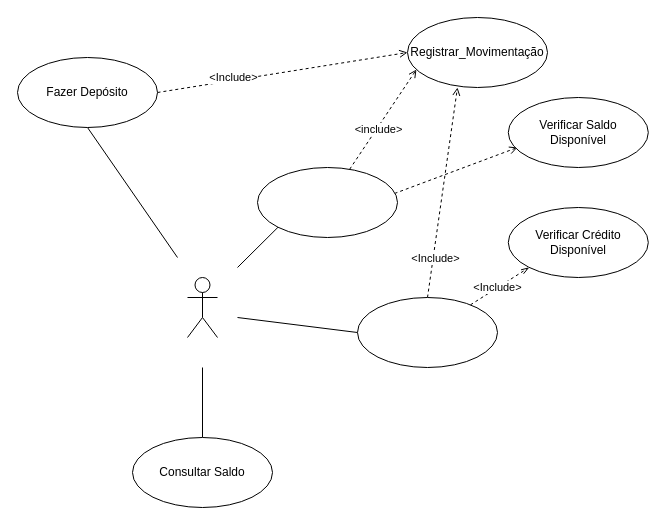
This 666x525 diagram has some shape labels left out. Each missing label, with the box of its shape:
Fazer Saque: (256, 166, 398, 238)
Realizar Empréstimo: (356, 296, 498, 368)
Usuário: (186, 276, 218, 338)
